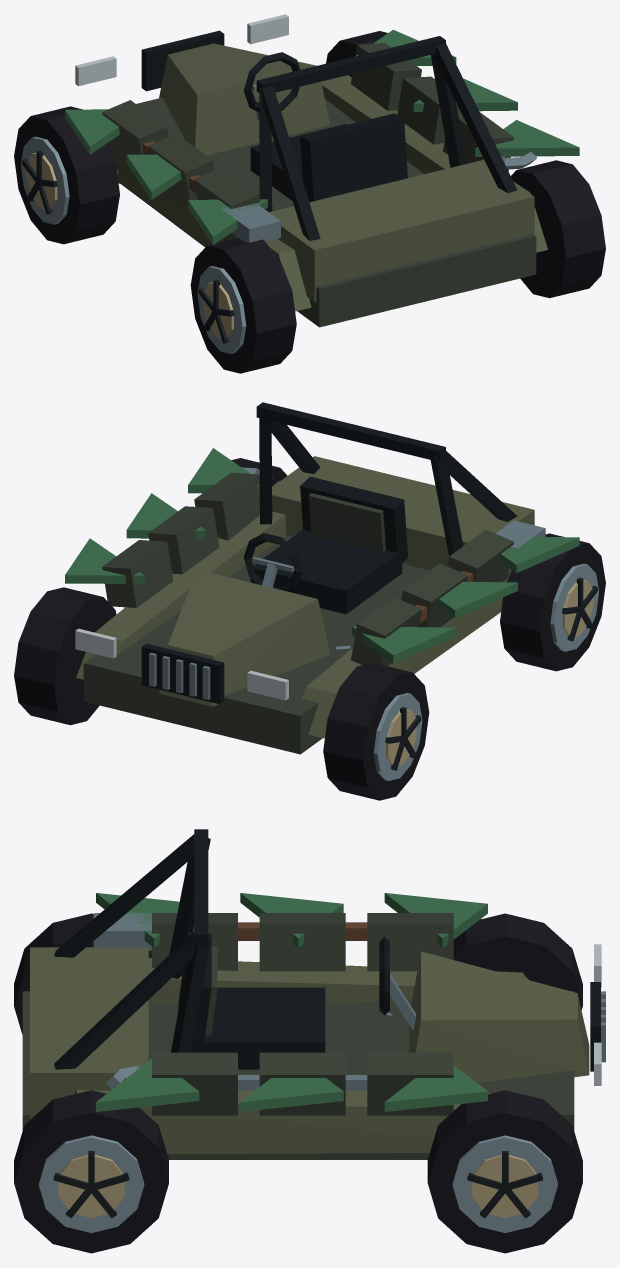
The model's file is kart.glb.
3 renders of one model, top to bottom at view 1: azimuth 30°, elevation 25°; view 2: azimuth 150°, elevation 25°; view 3: azimuth 270°, elevation 25°, orthographic. The views are drawn at different scales.
Parts seen in each view (by area): view 1: identity-buggy-buggy-offroad-frame, identity-buggy-motif-armor, wheel-rear-left, wheel-front-left, identity-buggy-driver-cockpit, wheel-rear-right, identity-buggy-motif-leaves, identity-buggy-motif-tools, wheel-front-right; view 2: identity-buggy-buggy-offroad-frame, identity-buggy-motif-armor, identity-buggy-driver-cockpit, wheel-front-left, wheel-rear-left, identity-buggy-motif-leaves, wheel-front-right, identity-buggy-motif-tools; view 3: identity-buggy-buggy-offroad-frame, identity-buggy-motif-armor, wheel-front-right, wheel-rear-right, identity-buggy-motif-leaves, identity-buggy-driver-cockpit, wheel-front-left, identity-buggy-motif-tools, wheel-rear-left.
Part boxes in pixels (x1=…): identity-buggy-buggy-offroad-frame: x1=75, y1=14, x2=547, y2=327; identity-buggy-motif-armor: x1=102, y1=43, x2=513, y2=238; wheel-rear-left: x1=190, y1=238, x2=296, y2=373; wheel-front-left: x1=14, y1=106, x2=119, y2=244; identity-buggy-driver-cockpit: x1=243, y1=52, x2=407, y2=202; wheel-rear-right: x1=511, y1=160, x2=605, y2=298; identity-buggy-motif-leaves: x1=65, y1=29, x2=579, y2=244; identity-buggy-motif-tools: x1=143, y1=141, x2=536, y2=242; wheel-front-right: x1=326, y1=31, x2=387, y2=76; identity-buggy-buggy-offroad-frame: x1=75, y1=402, x2=534, y2=754; identity-buggy-motif-armor: x1=102, y1=472, x2=513, y2=665; identity-buggy-driver-cockpit: x1=243, y1=476, x2=408, y2=614; wheel-front-left: x1=323, y1=663, x2=429, y2=800; wheel-rear-left: x1=500, y1=533, x2=605, y2=671; identity-buggy-motif-leaves: x1=65, y1=448, x2=579, y2=663; wheel-front-right: x1=14, y1=587, x2=116, y2=725; identity-buggy-motif-tools: x1=242, y1=467, x2=545, y2=622; identity-buggy-buggy-offroad-frame: x1=22, y1=829, x2=605, y2=1159; identity-buggy-motif-armor: x1=152, y1=913, x2=453, y2=1115; wheel-front-right: x1=427, y1=1090, x2=582, y2=1253; wheel-rear-right: x1=14, y1=1090, x2=168, y2=1253; identity-buggy-motif-leaves: x1=96, y1=893, x2=487, y2=1111; identity-buggy-driver-cockpit: x1=178, y1=931, x2=415, y2=1069; wheel-front-left: x1=453, y1=913, x2=582, y2=1010; identity-buggy-motif-tools: x1=93, y1=913, x2=367, y2=1090; wheel-rear-left: x1=14, y1=913, x2=151, y2=1034.
Bounding box in the file's own units: 2.31 × 1.39 × 2.75.
